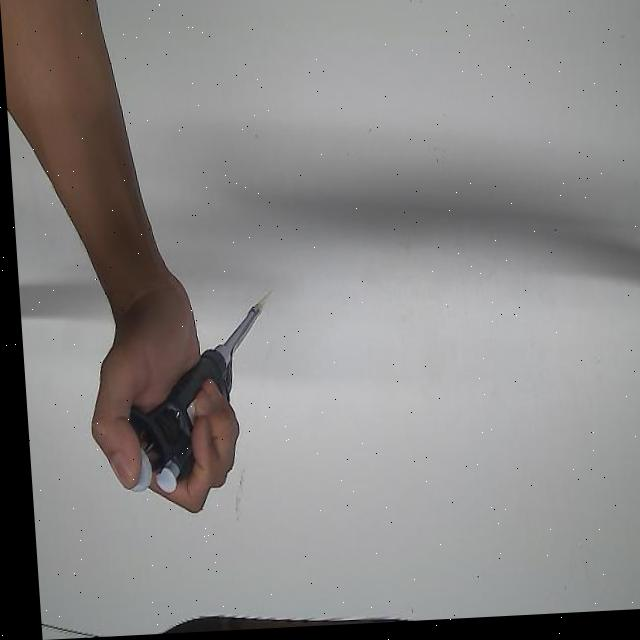Single Channel Pipettor: (108, 304, 270, 498)
